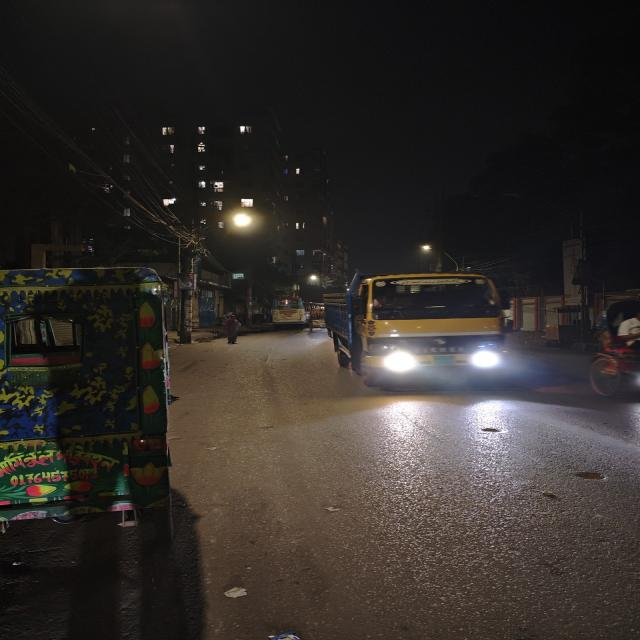bus: (266, 295, 308, 328)
pedestrian: (217, 315, 247, 348)
rickshaw: (5, 256, 176, 553), (307, 302, 328, 333)
truck: (326, 265, 522, 392)
